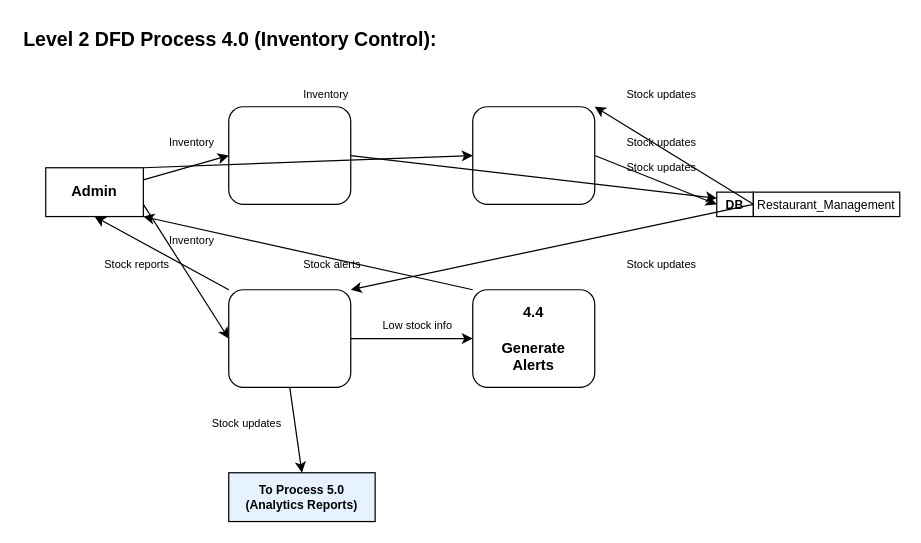
Image size: 921x543. Some labels were removed from this diagram. Each missing label, with the centre of its shape:
"4.1 Add Inventory" goes at point (289, 155).
"4.2 Update Stock" goes at point (533, 155).
"4.3 Check Stock Levels" goes at point (289, 338).
